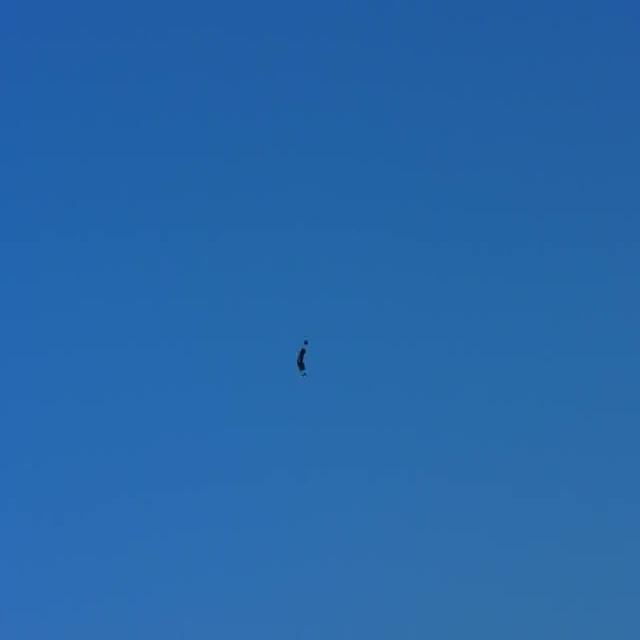iha: (291, 335, 312, 387)
